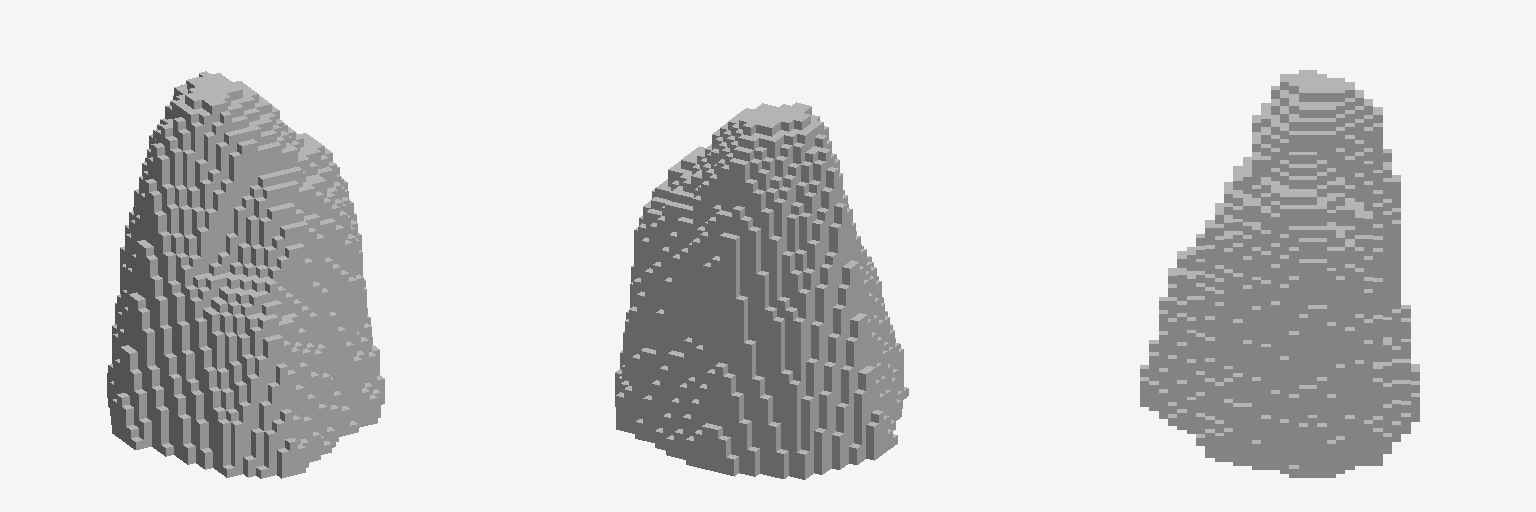
File: Hora4.obj
3 renders of one model, left to right at view 1: azimuth 30°, elevation 25°; view 2: azimuth 150°, elevation 25°; view 3: azimuth 270°, elevation 25°, orthographic.
Visible parts, largest first — view 1: object 1; view 2: object 1; view 3: object 1.
Part boxes in pixels (left/top/right/bottom): object 1: left=107, top=71, right=384, bottom=478; object 1: left=615, top=102, right=908, bottom=479; object 1: left=1140, top=70, right=1419, bottom=477.
Size of the model in its own units: 3.1 by 3.8 by 3.